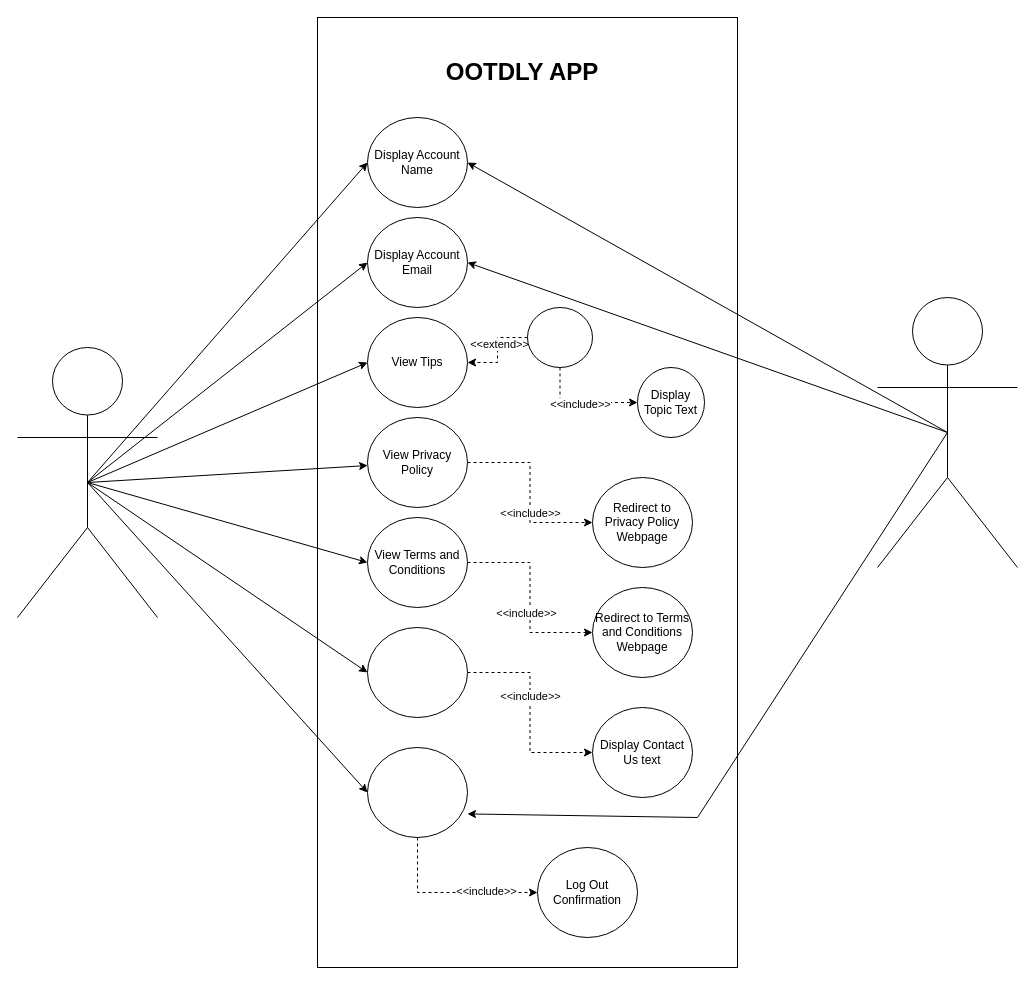
The diagram is 1035 pixels wide and 985 high, and some of its shapes have lost their labels. The shapes that lost their labels are listed below. From the top down, each one's box as (x1, y1, x2, y2) in pixels, then its label:
(526, 306, 592, 368): Select Topic
(876, 296, 1018, 568): Firebase
(16, 346, 158, 618): User
(366, 626, 468, 718): View Contact Us
(366, 746, 468, 838): Log Out
